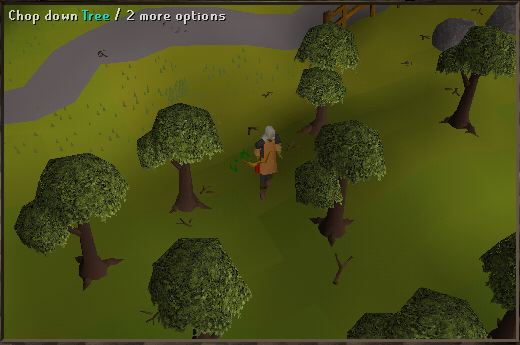Tree: (35, 148, 119, 282), (293, 121, 381, 247), (437, 24, 509, 139), (148, 104, 214, 213), (294, 23, 348, 120)
